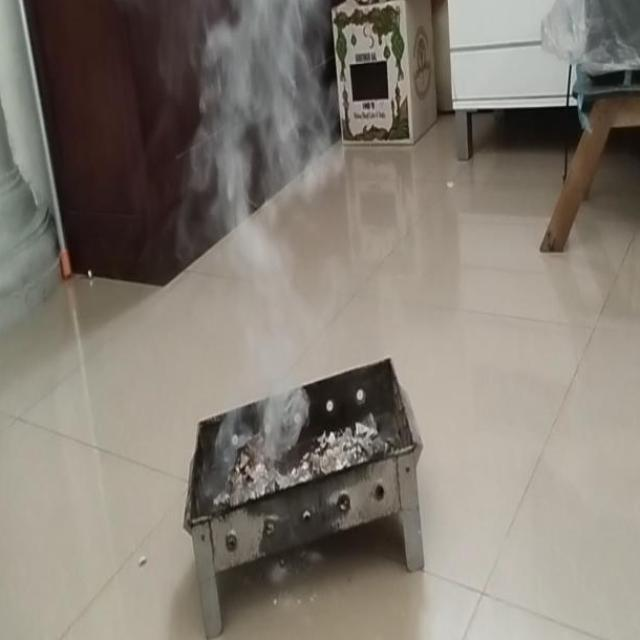fire: (186, 0, 344, 233), (237, 240, 305, 434)
